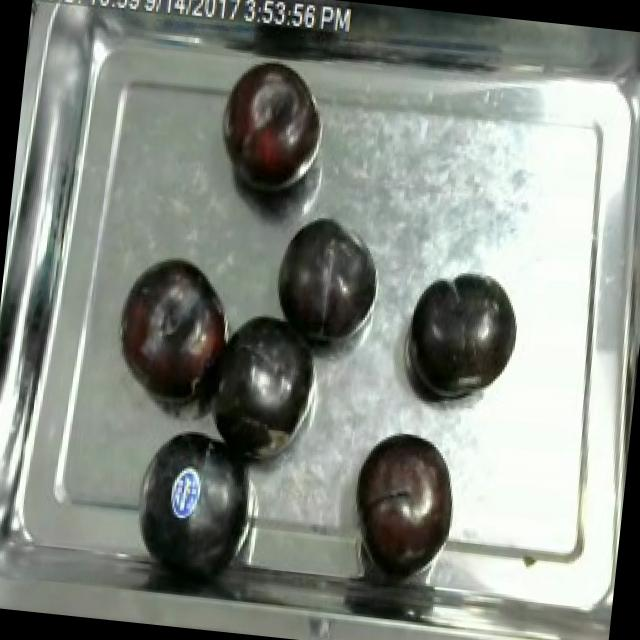Fruit: (120, 413, 266, 587), (104, 247, 240, 412), (398, 262, 526, 410), (209, 52, 331, 202), (345, 421, 463, 575), (264, 208, 382, 352), (200, 302, 324, 436)
